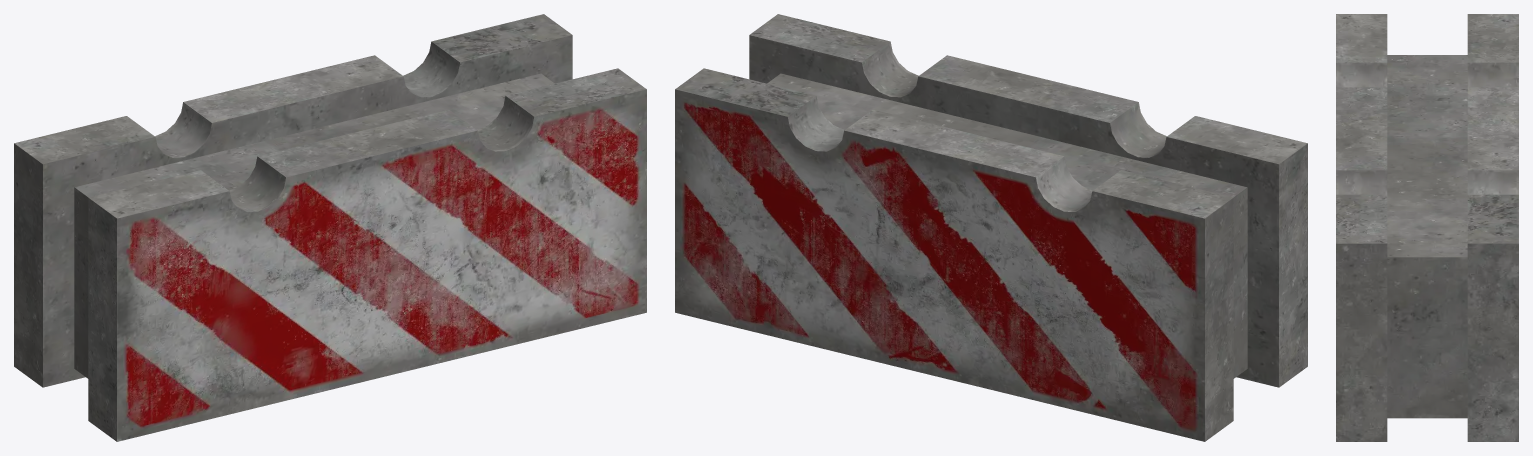
Rendered from Concrete_Block.glb.
3 views of the same model, side by side, from view 1: azimuth 30°, elevation 25°; view 2: azimuth 150°, elevation 25°; view 3: azimuth 270°, elevation 25° (orthographic). The views are drawn at different scales.
Visible parts, largest first — view 1: Concrete_Block; view 2: Concrete_Block; view 3: Concrete_Block.
Boxes of the visible parts, x1,y1,x2,y2 form: Concrete_Block: [14, 14, 646, 441]; Concrete_Block: [675, 14, 1307, 441]; Concrete_Block: [1336, 14, 1518, 441].
Bounding box in the file's own units: 2.01 × 0.8103 × 0.6768.
Materials: 1 (1 with a texture image).
